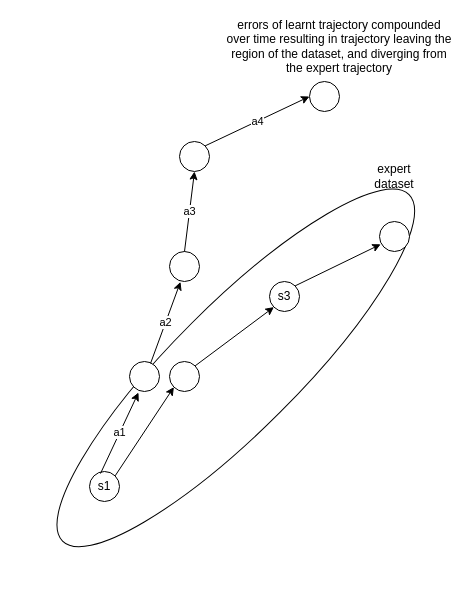
This 472x603 diagram has some shape labels left out. The box of each missing label's shape, as (x1, y1, x2, y2) in pixels:
s2: (168, 360, 200, 392)
s4: (378, 220, 410, 252)
